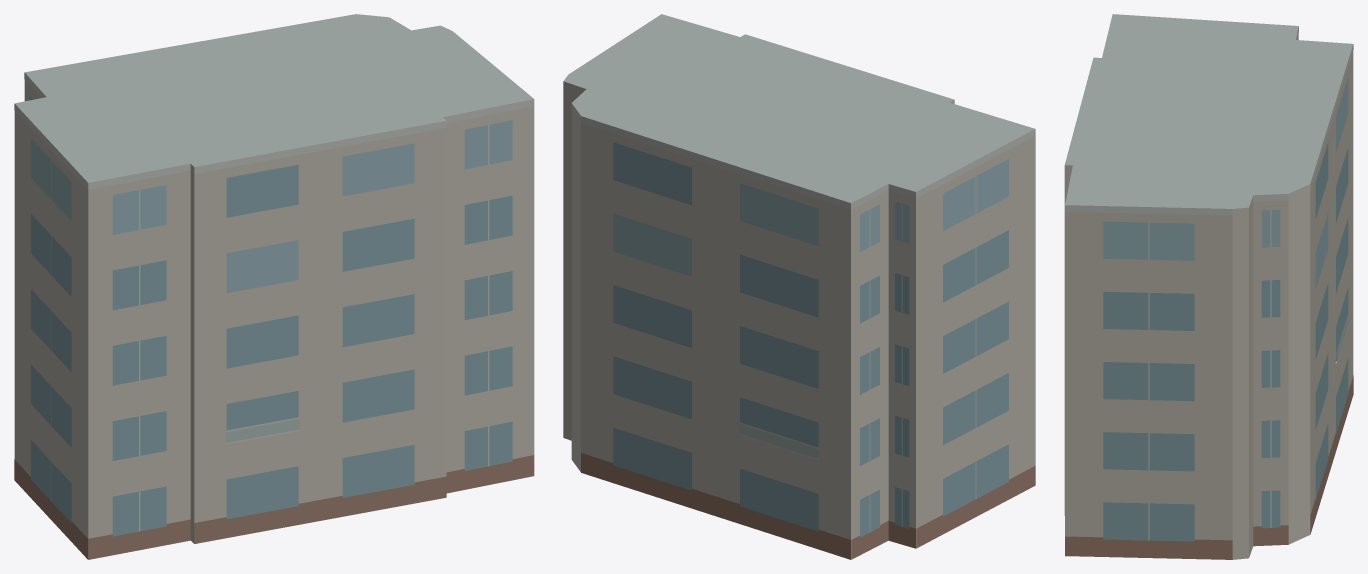
File: survey-upis-32644390.glb
3 views of the same model, side by side, from view 1: azimuth 30°, elevation 25°; view 2: azimuth 150°, elevation 25°; view 3: azimuth 270°, elevation 25° (orthographic). The views are drawn at different scales.
Parts seen in each view (by area): view 1: survey-upis-32644390.tmp; view 2: survey-upis-32644390.tmp; view 3: survey-upis-32644390.tmp.
Boxes of the visible parts, x1,y1,x2,y2 form: survey-upis-32644390.tmp: (14, 14, 534, 559); survey-upis-32644390.tmp: (563, 14, 1035, 559); survey-upis-32644390.tmp: (1064, 14, 1353, 559).
Bounding box in the file's own units: 15.81 × 13.26 × 9.9.
